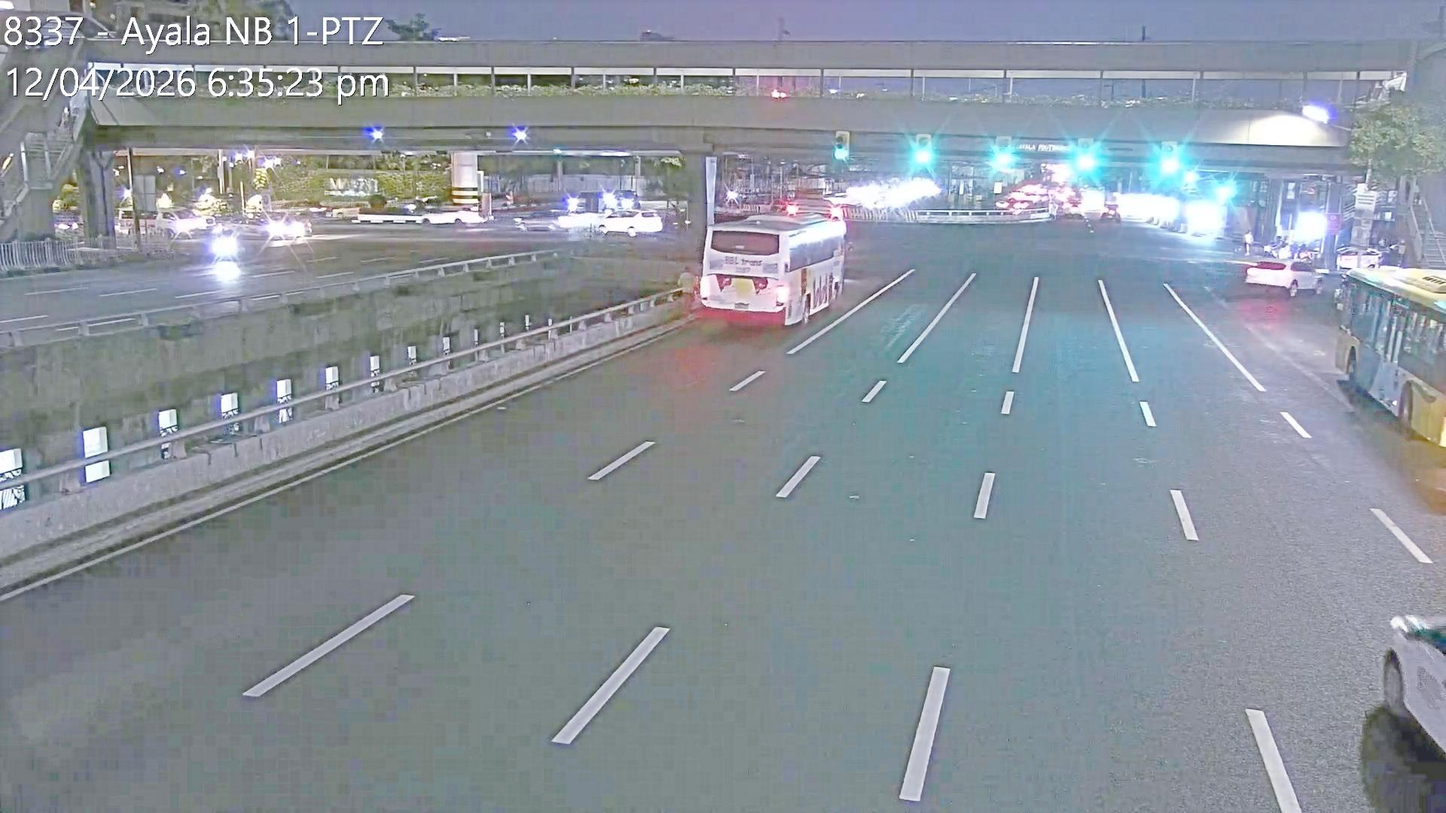Car: (1382, 612, 1446, 782), (1244, 258, 1321, 297), (240, 211, 314, 242), (595, 209, 665, 236)
